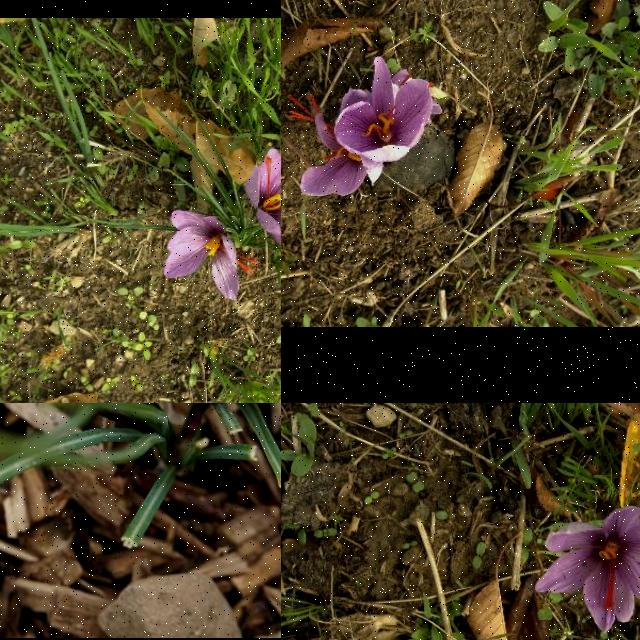flower: (534, 507, 640, 633), (165, 210, 258, 302), (248, 144, 281, 247)
overlap: (289, 56, 435, 198)
